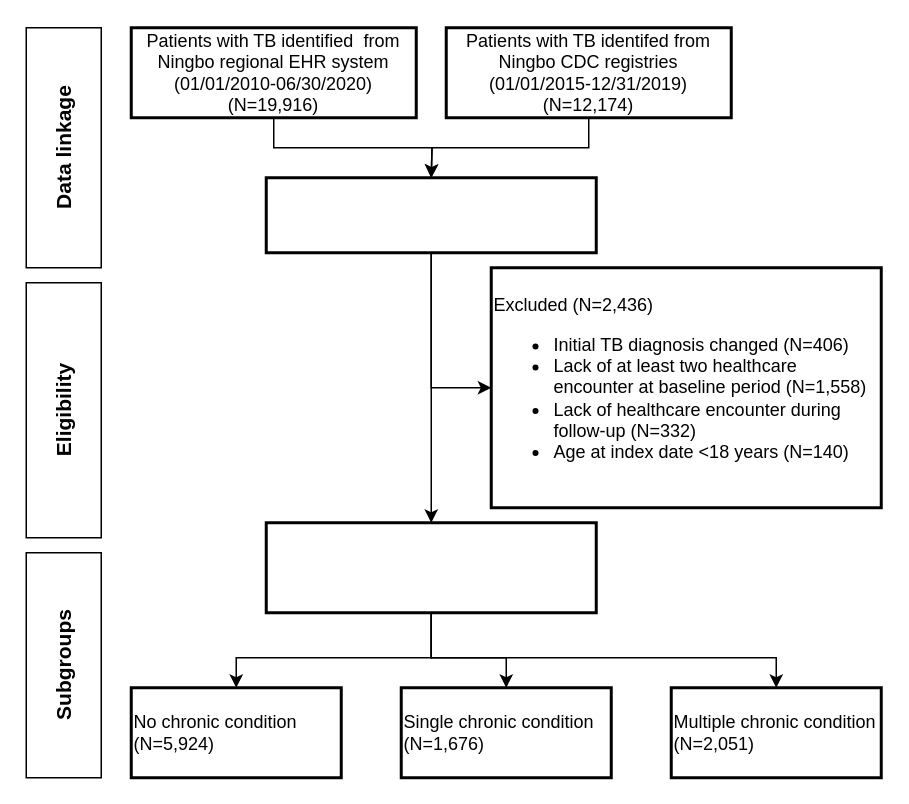
The diagram is 909 pixels wide and 804 high, and some of its shapes have lost their labels. Each missing label, with the centre of its shape:
"Analytic study cohort (N=9,651)" belongs at (430,567).
"Patients linked with both data sources (N=12,087)" belongs at (430,215).
